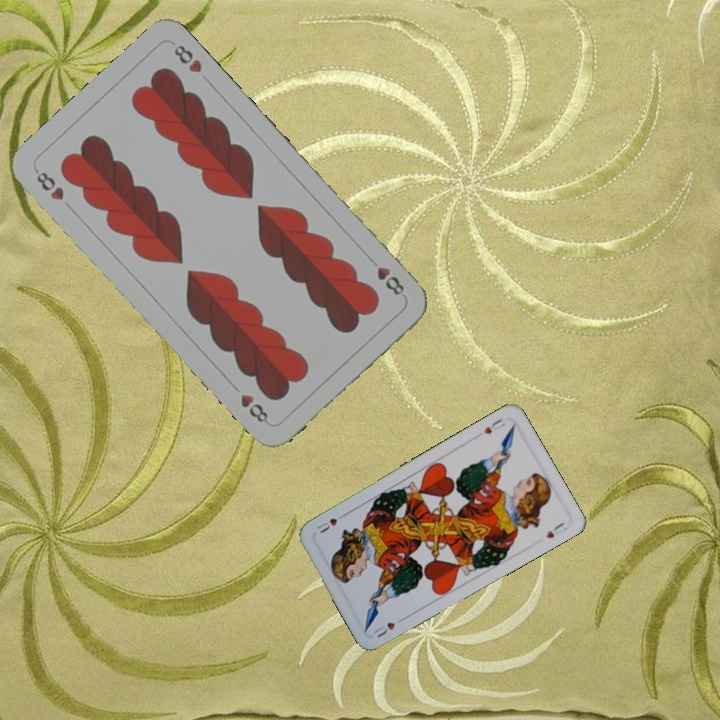H8: (364, 253, 407, 298), (30, 165, 67, 203)
HU: (370, 613, 407, 640), (479, 415, 508, 437)
